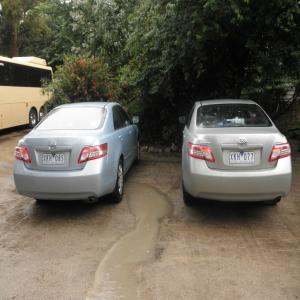Vehicle-registration-plate: (231, 151, 255, 164), (43, 155, 66, 166)
